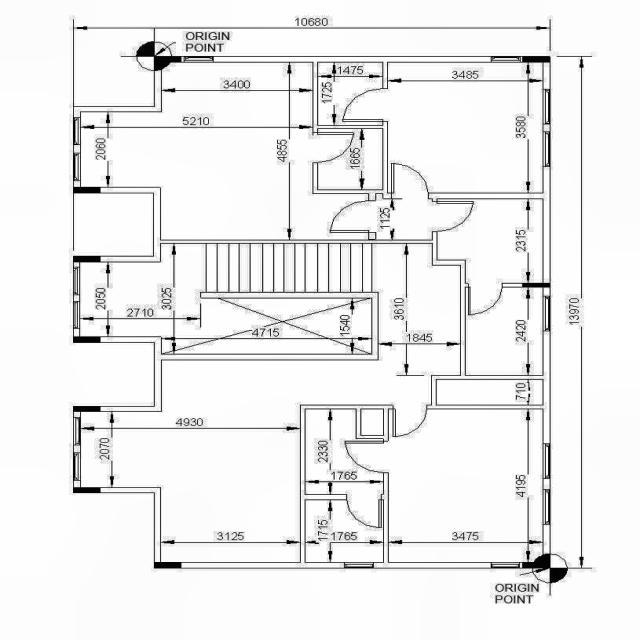Column: (73, 186, 101, 194), (522, 56, 551, 63), (154, 56, 182, 63), (72, 255, 100, 262), (72, 336, 100, 343), (522, 562, 551, 568), (73, 406, 101, 412), (72, 487, 100, 493), (154, 562, 182, 568), (522, 282, 550, 288), (542, 554, 550, 562)
Door: (387, 162, 432, 199), (343, 438, 389, 474), (342, 88, 388, 122), (329, 200, 376, 233), (432, 199, 474, 232), (312, 132, 354, 163), (465, 282, 503, 316), (346, 494, 383, 528), (392, 404, 428, 438)
Staircase: (161, 244, 432, 292)
Window: (542, 88, 550, 125), (542, 443, 550, 479), (542, 296, 550, 332), (542, 131, 550, 167), (542, 490, 550, 524), (73, 152, 81, 182), (73, 117, 81, 145), (73, 417, 81, 445), (73, 452, 81, 480), (73, 266, 80, 296), (344, 562, 374, 569), (490, 56, 520, 63), (184, 56, 214, 63), (73, 301, 80, 329), (491, 562, 520, 568)
